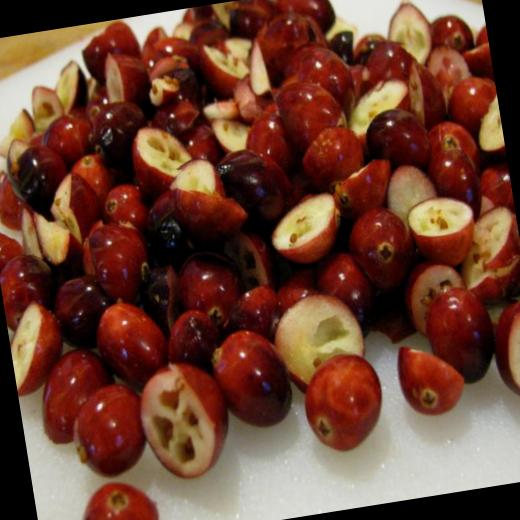Apple: (298, 347, 392, 457)
